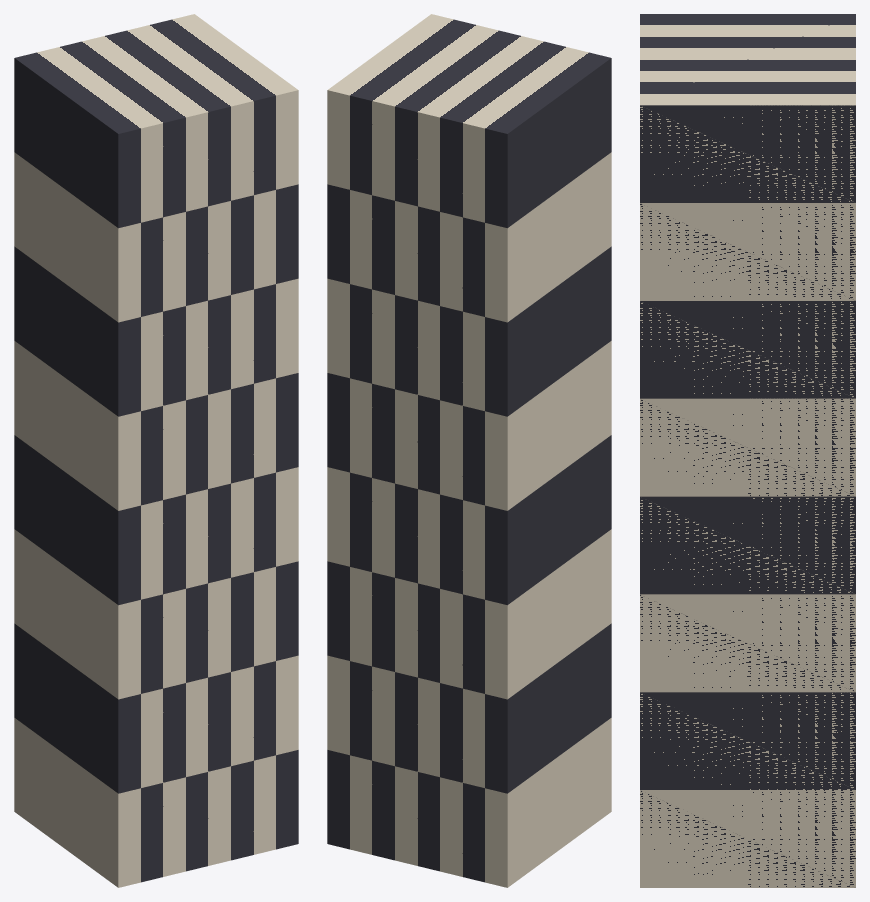
File: bar.obj
The picture shows the model from 3 angles, left to right: view 1: azimuth 30°, elevation 25°; view 2: azimuth 150°, elevation 25°; view 3: azimuth 270°, elevation 25°; orthographic projection. The views are drawn at different scales.
Parts seen in each view (by area): view 1: bar; view 2: bar; view 3: bar.
Boxes of the visible parts, x1,y1,x2,y2 form: bar: [14, 14, 298, 887]; bar: [327, 14, 611, 887]; bar: [640, 14, 855, 887].
Bounding box in the file's own units: 1 × 4 × 1.
1 material, 1 textured.
